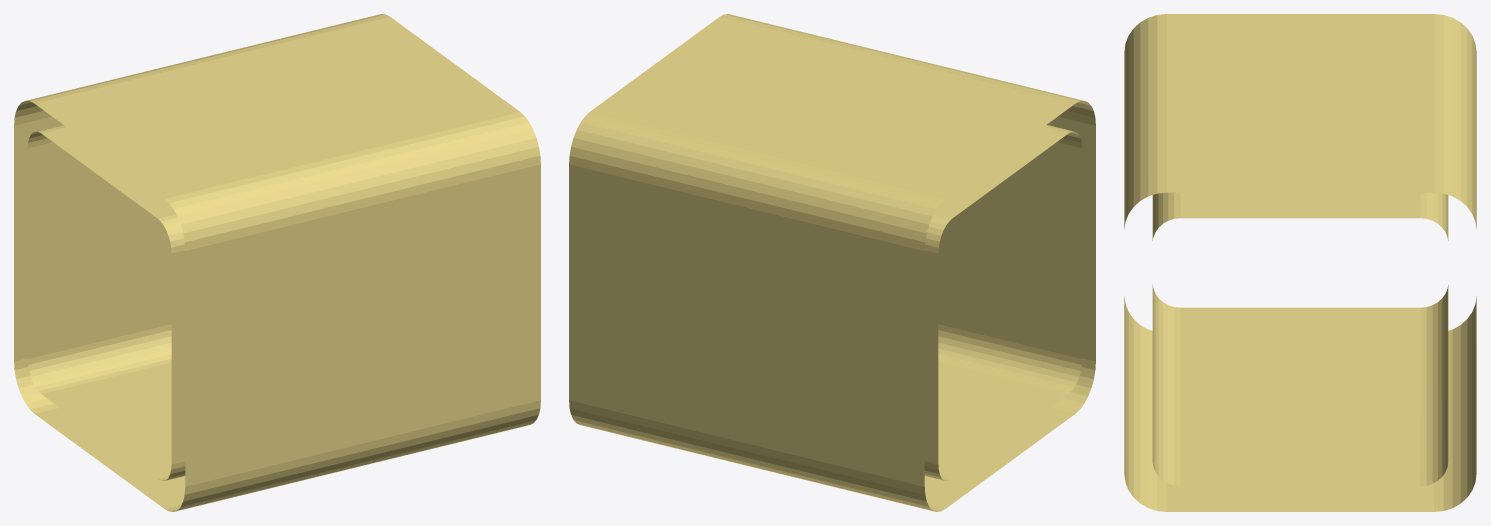
The model's file is RailLeft_02.obj.
3 renders of one model, left to right at view 1: azimuth 30°, elevation 25°; view 2: azimuth 150°, elevation 25°; view 3: azimuth 270°, elevation 25°, orthographic. The views are drawn at different scales.
Visible parts, largest first — view 1: RailLeft_02_14; view 2: RailLeft_02_14; view 3: RailLeft_02_14.
Part boxes in pixels (left/top/right/bottom): RailLeft_02_14: left=14, top=14, right=540, bottom=511; RailLeft_02_14: left=569, top=14, right=1095, bottom=511; RailLeft_02_14: left=1124, top=14, right=1476, bottom=511.
Size of the model in its own units: 0.03 by 0.025 by 0.025.
